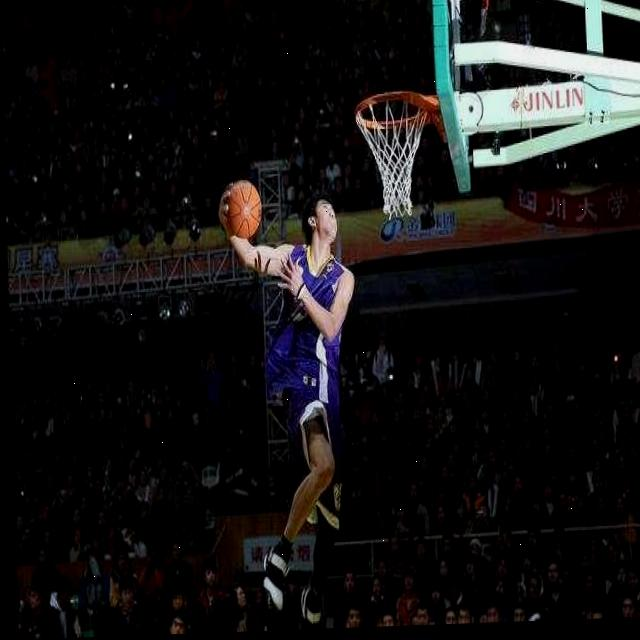basketball: (227, 183, 262, 241)
hoop: (354, 89, 433, 217)
